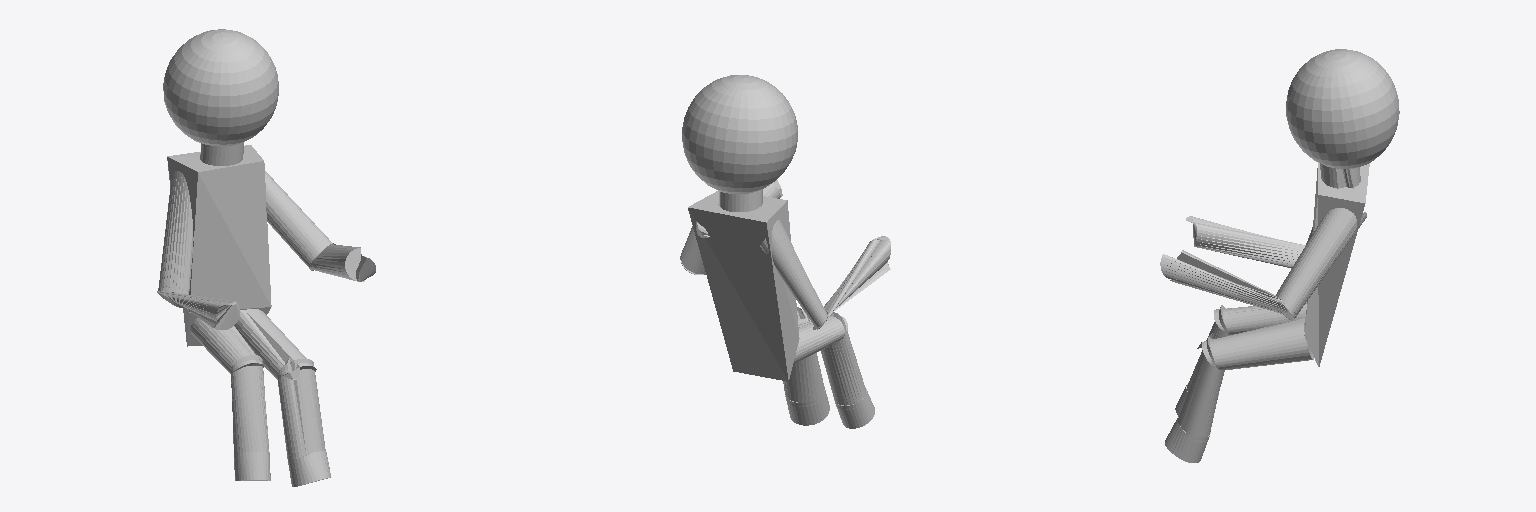
File: person.obj
3 views of the same model, side by side, from view 1: azimuth 30°, elevation 25°; view 2: azimuth 150°, elevation 25°; view 3: azimuth 270°, elevation 25° (orthographic).
Parts seen in each view (by area): view 1: Player_Poppy_Playtime; view 2: Player_Poppy_Playtime; view 3: Player_Poppy_Playtime.
Boxes of the visible parts, <box> form: Player_Poppy_Playtime: <box>157,29,375,486</box>; Player_Poppy_Playtime: <box>680,75,890,428</box>; Player_Poppy_Playtime: <box>1160,49,1399,462</box>.
Size of the model in its own units: 2.03 by 4.69 by 2.55.